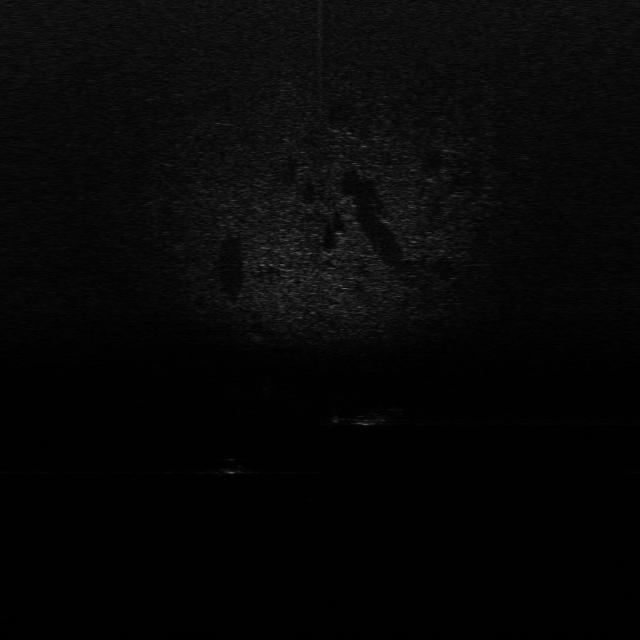ball: (213, 457, 249, 477)
human body: (328, 405, 407, 430)
